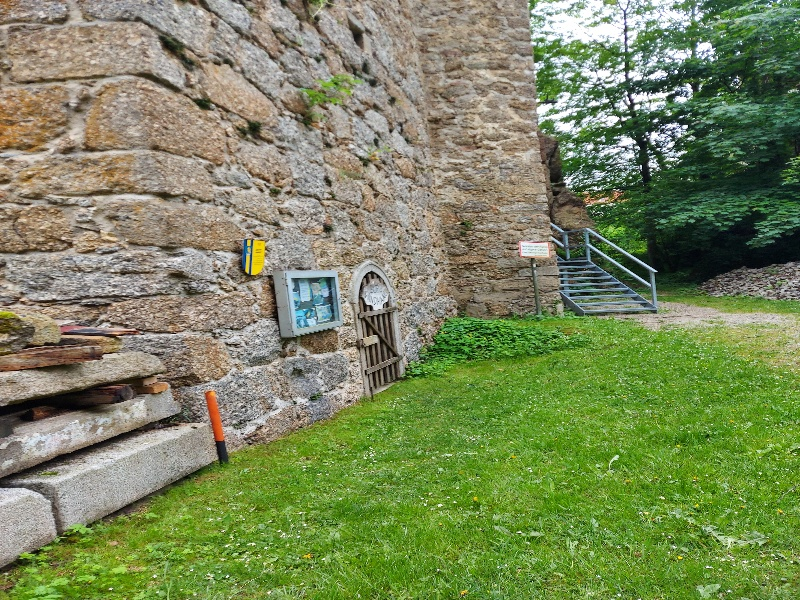dungeon: (336, 257, 424, 400)
